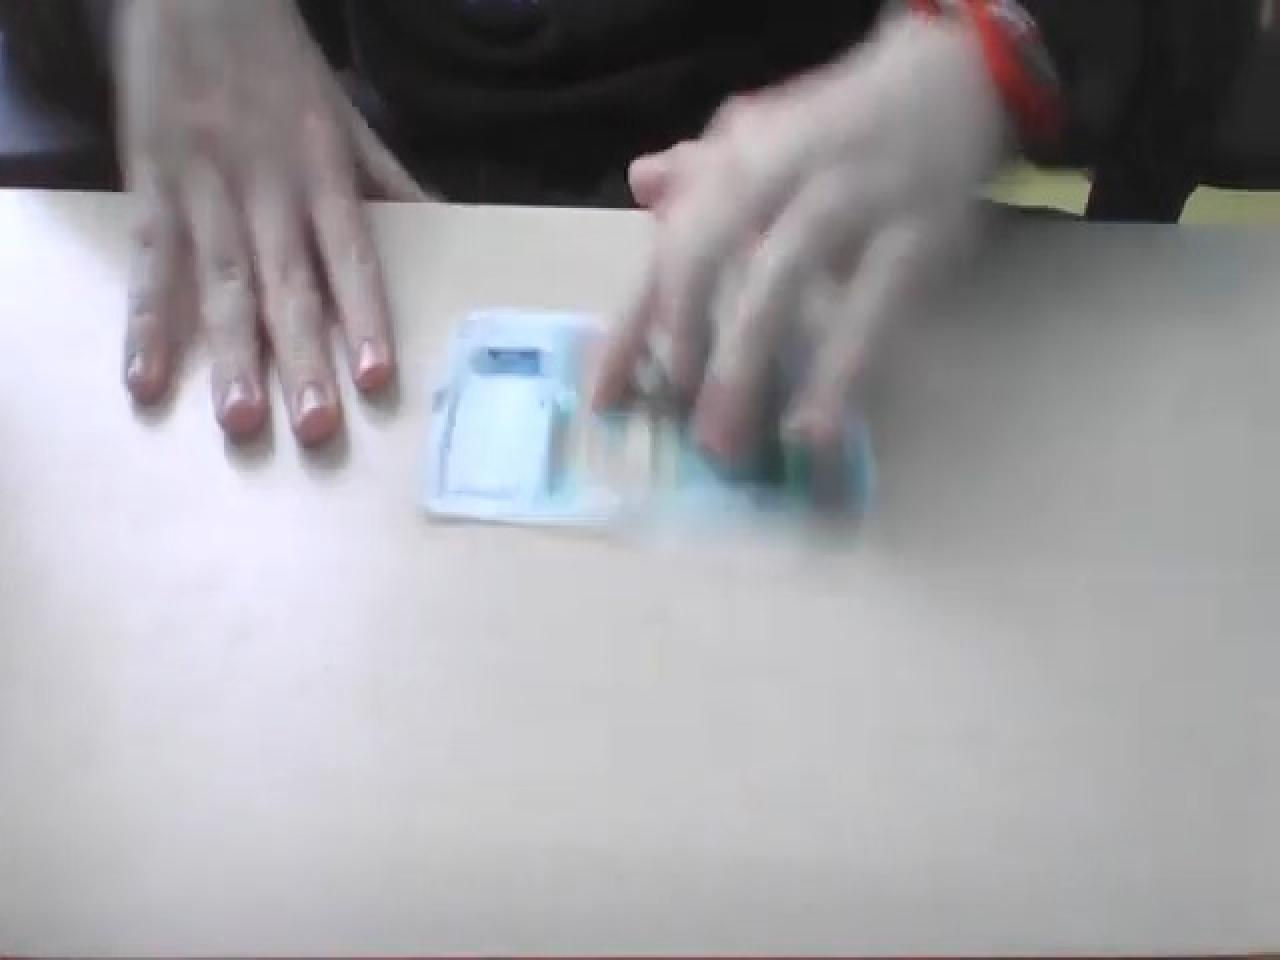100leva: (416, 302, 876, 547)
